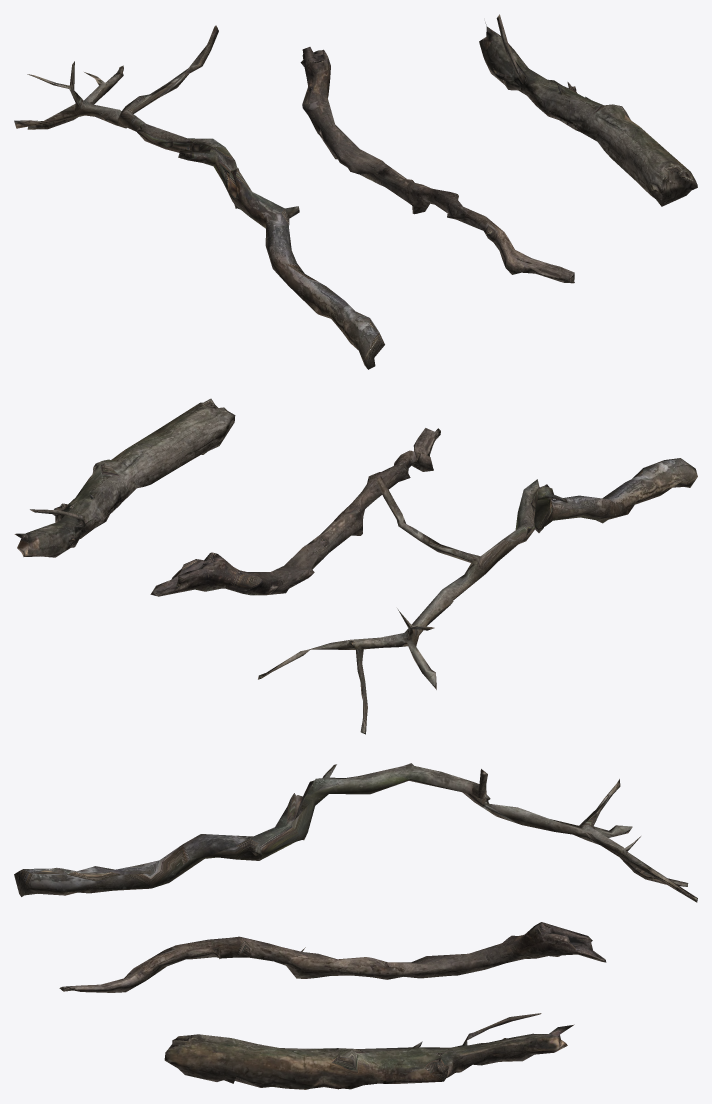
File: dry_branches_medium_01.glb
3 views of the same model, one above another, from view 1: azimuth 30°, elevation 25°; view 2: azimuth 150°, elevation 25°; view 3: azimuth 270°, elevation 25° (orthographic). The views are drawn at different scales.
Parts seen in each view (by area): view 1: dry_branches_medium_01_a, dry_branches_medium_01_c, dry_branches_medium_01_b; view 2: dry_branches_medium_01_a, dry_branches_medium_01_c, dry_branches_medium_01_b; view 3: dry_branches_medium_01_a, dry_branches_medium_01_c, dry_branches_medium_01_b.
Part boxes in pixels (x1,y1,x2,y2): dry_branches_medium_01_a: (14,25,384,369); dry_branches_medium_01_c: (479,14,697,206); dry_branches_medium_01_b: (300,47,574,283); dry_branches_medium_01_a: (258,458,697,734); dry_branches_medium_01_c: (14,398,235,557); dry_branches_medium_01_b: (150,428,440,596); dry_branches_medium_01_a: (14,763,697,902); dry_branches_medium_01_c: (164,1013,574,1089); dry_branches_medium_01_b: (59,922,606,992).
Bounding box in the file's own units: 1.05 × 0.3401 × 1.3.
1 material, 1 textured.
